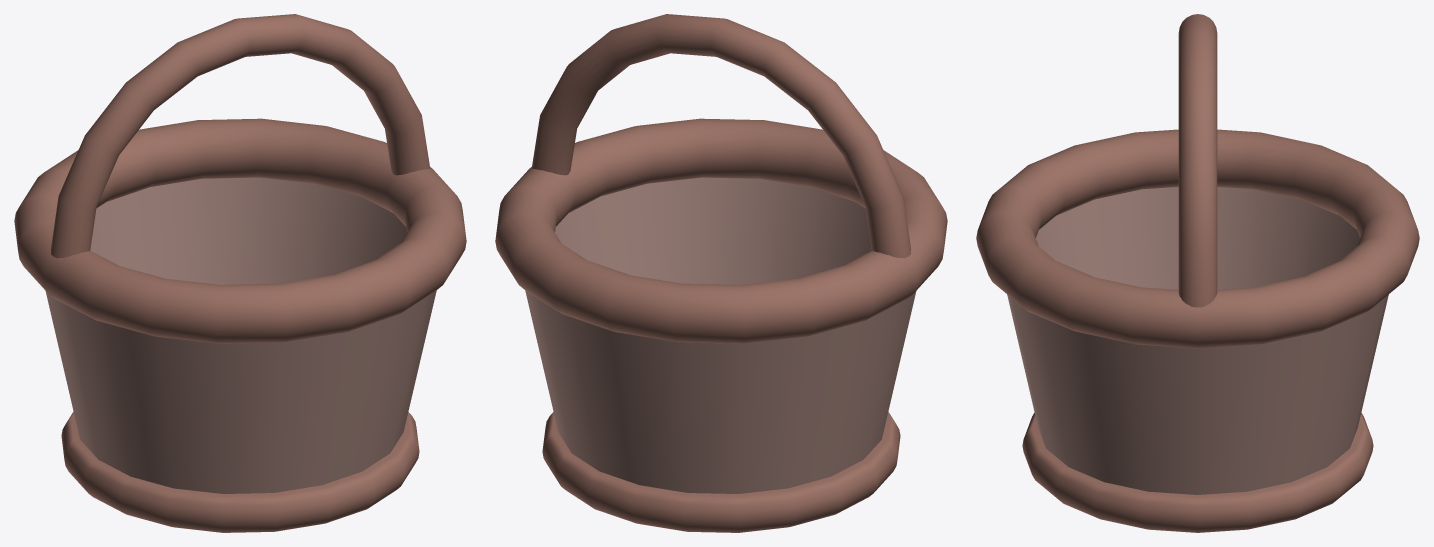
File: Farm_11_Basket_1.glb
3 renders of one model, left to right at view 1: azimuth 30°, elevation 25°; view 2: azimuth 150°, elevation 25°; view 3: azimuth 270°, elevation 25°, orthographic. The views are drawn at different scales.
Parts seen in each view (by area): view 1: Farm_11_Basket_1; view 2: Farm_11_Basket_1; view 3: Farm_11_Basket_1.
Boxes of the visible parts, x1=… form: Farm_11_Basket_1: x1=14, y1=14, x2=466, y2=532; Farm_11_Basket_1: x1=495, y1=14, x2=947, y2=532; Farm_11_Basket_1: x1=976, y1=14, x2=1419, y2=532.
Bounding box in the file's own units: 0.7208 × 0.7787 × 0.7208.
Materials: 1 (1 with a texture image).
